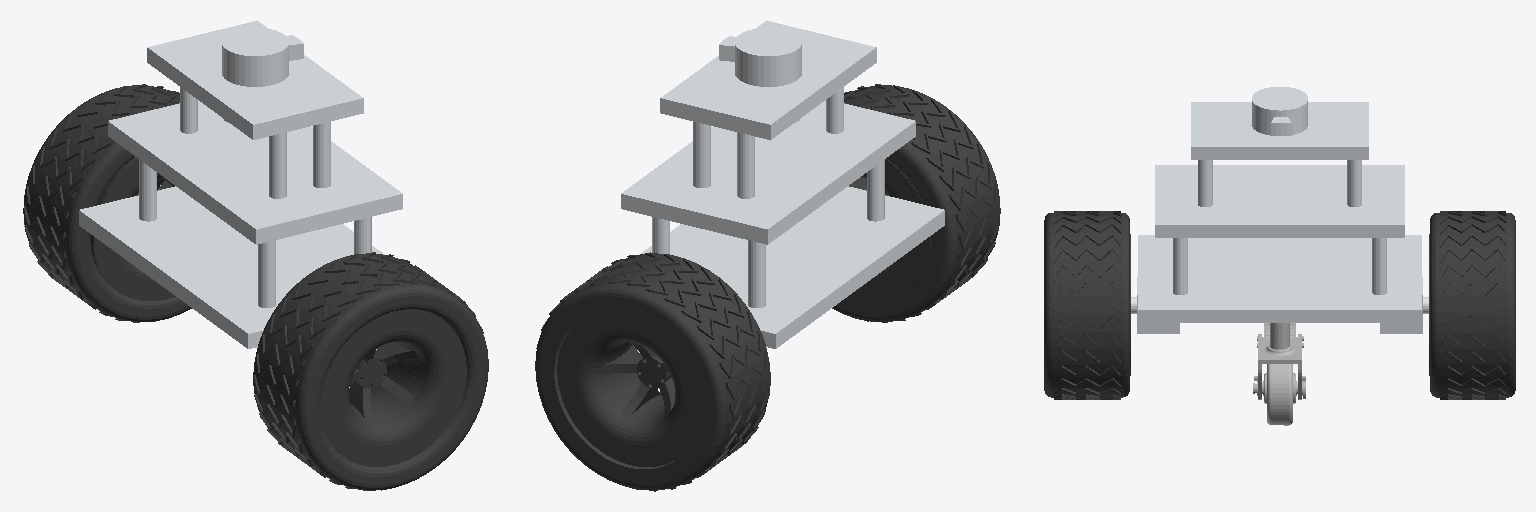
robot.urdf — two_wheeled_robot:
<?xml version="1.0" encoding="utf-8"?>
<!-- This URDF was automatically created by SolidWorks to URDF Exporter! Originally created by [author] ([email redacted]) 
     Commit Version: 1.6.0-1-g15f4949  Build Version: 1.6.7594.29634
     For more information, please see http://wiki.ros.org/sw_urdf_exporter -->
<robot
  name="two_wheeled_robot">
  <link
    name="base_link">
    <inertial>
      <origin
        xyz="-1.4387E-05 1.9847E-17 0.060106"
        rpy="0 0 0" />
      <mass
        value="12.812" />
      <inertia
        ixx="0.12262"
        ixy="2.6963E-18"
        ixz="-7.5972E-06"
        iyy="0.045704"
        iyz="-1.1294E-18"
        izz="0.16644" />
    </inertial>
    <visual>
      <origin
        xyz="0 0 0"
        rpy="0 0 0" />
      <geometry>
        <mesh
          filename="package://two_wheeled_robot/meshes/base_link.STL" />
      </geometry>
      <material
        name="">
        <color
          rgba="0.89804 0.91765 0.92941 1" />
      </material>
    </visual>
    <collision>
      <origin
        xyz="0 0 0"
        rpy="0 0 0" />
      <geometry>
        <mesh
          filename="package://two_wheeled_robot/meshes/base_link.STL" />
      </geometry>
    </collision>
  </link>
  <link
    name="lw_Link">
    <inertial>
      <origin
        xyz="1.0458E-06 2.5494E-06 -0.0072499"
        rpy="0 0 0" />
      <mass
        value="4.809" />
      <inertia
        ixx="0.022657"
        ixy="-2.0596E-09"
        ixz="3.9168E-08"
        iyy="0.022657"
        iyz="9.5141E-08"
        izz="0.033315" />
    </inertial>
    <visual>
      <origin
        xyz="0 0 0"
        rpy="0 0 0" />
      <geometry>
        <mesh
          filename="package://two_wheeled_robot/meshes/lw_Link.STL" />
      </geometry>
      <material
        name="">
        <color
          rgba="0.29804 0.29804 0.29804 1" />
      </material>
    </visual>
    <collision>
      <origin
        xyz="0 0 0"
        rpy="0 0 0" />
      <geometry>
        <mesh
          filename="package://two_wheeled_robot/meshes/lw_Link.STL" />
      </geometry>
    </collision>
  </link>
  <joint
    name="lw_joint"
    type="continuous">
    <origin
      xyz="0.00080677 0.27524 -0.05"
      rpy="-1.5708 0 0" />
    <parent
      link="base_link" />
    <child
      link="lw_Link" />
    <axis
      xyz="0 0 -1" />
  </joint>
  <link
    name="rw_Link">
    <inertial>
      <origin
        xyz="-5.9399E-07 2.6908E-06 -0.0071869"
        rpy="0 0 0" />
      <mass
        value="4.809" />
      <inertia
        ixx="0.022657"
        ixy="2.0187E-09"
        ixz="-2.2054E-08"
        iyy="0.022657"
        iyz="1.005E-07"
        izz="0.033315" />
    </inertial>
    <visual>
      <origin
        xyz="0 0 0"
        rpy="0 0 0" />
      <geometry>
        <mesh
          filename="package://two_wheeled_robot/meshes/rw_Link.STL" />
      </geometry>
      <material
        name="">
        <color
          rgba="0.29804 0.29804 0.29804 1" />
      </material>
    </visual>
    <collision>
      <origin
        xyz="0 0 0"
        rpy="0 0 0" />
      <geometry>
        <mesh
          filename="package://two_wheeled_robot/meshes/rw_Link.STL" />
      </geometry>
    </collision>
  </link>
  <joint
    name="rw_joint"
    type="continuous">
    <origin
      xyz="0.00080677 -0.27524 -0.05"
      rpy="1.5708 0 0" />
    <parent
      link="base_link" />
    <child
      link="rw_Link" />
    <axis
      xyz="0 0 1" />
  </joint>
  <link
    name="cws_Link">
    <inertial>
      <origin
        xyz="-0.0039596 -8.3176E-05 -0.041094"
        rpy="0 0 0" />
      <mass
        value="1.586" />
      <inertia
        ixx="0.0015127"
        ixy="3.4421E-07"
        ixz="-1.8122E-05"
        iyy="0.0020985"
        iyz="1.6261E-07"
        izz="0.0013004" />
    </inertial>
    <visual>
      <origin
        xyz="0 0 0"
        rpy="0 0 0" />
      <geometry>
        <mesh
          filename="package://two_wheeled_robot/meshes/cws_Link.STL" />
      </geometry>
      <material
        name="">
        <color
          rgba="0.75294 0.75294 0.75294 1" />
      </material>
    </visual>
    <collision>
      <origin
        xyz="0 0 0"
        rpy="0 0 0" />
      <geometry>
        <mesh
          filename="package://two_wheeled_robot/meshes/cws_Link.STL" />
      </geometry>
    </collision>
  </link>
  <joint
    name="cws_joint"
    type="continuous">
    <origin
      xyz="0.10215 0 -0.072"
      rpy="0 0 0" />
    <parent
      link="base_link" />
    <child
      link="cws_Link" />
    <axis
      xyz="0 0 1" />
  </joint>
  <link
    name="lidar_Link">
    <inertial>
      <origin
        xyz="0.0023743 8.0583E-05 0.019972"
        rpy="0 0 0" />
      <mass
        value="0.56987" />
      <inertia
        ixx="0.00029196"
        ixy="-2.1729E-06"
        ixz="7.5625E-07"
        iyy="0.0003559"
        iyz="2.5667E-08"
        izz="0.00050128" />
    </inertial>
    <visual>
      <origin
        xyz="0 0 0"
        rpy="0 0 0" />
      <geometry>
        <mesh
          filename="package://two_wheeled_robot/meshes/lidar_Link.STL" />
      </geometry>
      <material
        name="">
        <color
          rgba="0.89804 0.91765 0.92941 1" />
      </material>
    </visual>
    <collision>
      <origin
        xyz="0 0 0"
        rpy="0 0 0" />
      <geometry>
        <mesh
          filename="package://two_wheeled_robot/meshes/lidar_Link.STL" />
      </geometry>
    </collision>
  </link>
  <joint
    name="lidar_joint"
    type="fixed">
    <origin
      xyz="0 0 0.23"
      rpy="0 0 0" />
    <parent
      link="base_link" />
    <child
      link="lidar_Link" />
    <axis
      xyz="0 0 0" />
  </joint>
</robot>

--- What the picture shows (computed from the rendered views, not written in the file) ---
The picture shows the robot from 3 angles, left to right: view 1: azimuth 30°, elevation 25°; view 2: azimuth 150°, elevation 25°; view 3: azimuth 270°, elevation 25°; orthographic projection.
Robot: two_wheeled_robot — 5 links, 4 joints (3 continuous, 1 fixed); root link base_link; default pose: all joints at 0.
Links seen in each view (by area): view 1: base_link, rw_Link, lw_Link, lidar_Link; view 2: base_link, lw_Link, rw_Link, lidar_Link; view 3: base_link, rw_Link, lw_Link, cws_Link, lidar_Link.
Boxes of the visible links, x1,y1,x2,y2 form: base_link: (79, 20, 402, 348); rw_Link: (253, 252, 488, 490); lw_Link: (23, 84, 191, 322); lidar_Link: (222, 28, 303, 86); base_link: (621, 20, 944, 348); lw_Link: (535, 252, 770, 491); rw_Link: (832, 84, 1000, 322); lidar_Link: (719, 28, 801, 86); base_link: (1131, 102, 1428, 333); rw_Link: (1044, 211, 1130, 399); lw_Link: (1429, 211, 1515, 399); cws_Link: (1253, 323, 1305, 425); lidar_Link: (1252, 87, 1307, 135).
Size in the robot's own frame: 0.2863 by 0.6619 by 0.454 metres.
5 mesh visuals loaded from 5 distinct referenced files (5 binary STL).